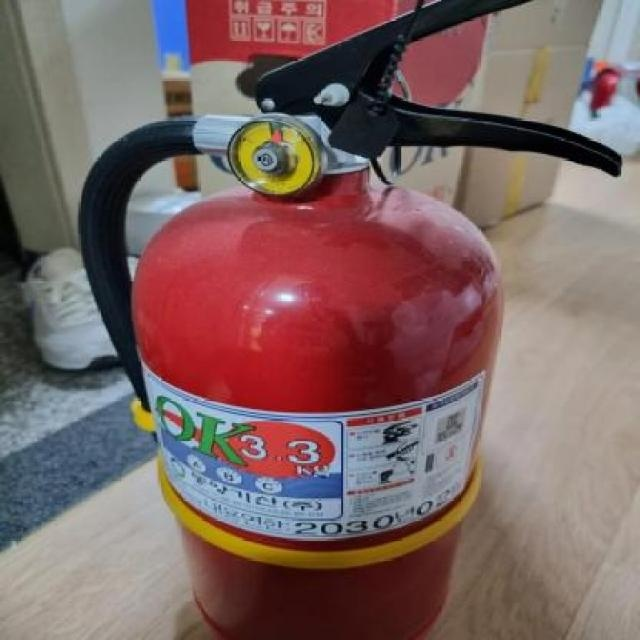fire extinguisher: (80, 0, 623, 640)
